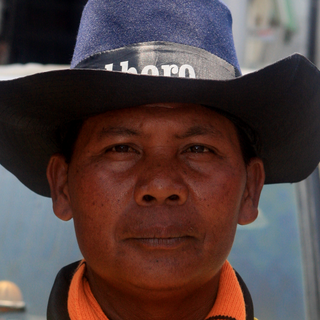eye: (175, 138, 223, 164), (96, 138, 146, 162)
